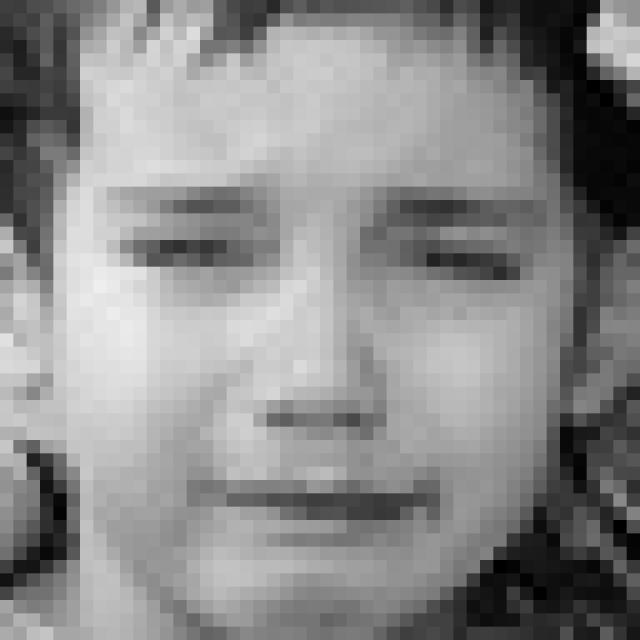sad: (98, 151, 550, 548)
